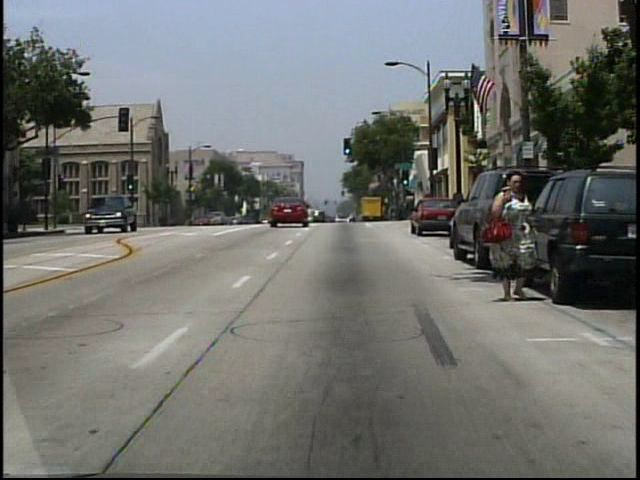person: (482, 172, 543, 304)
